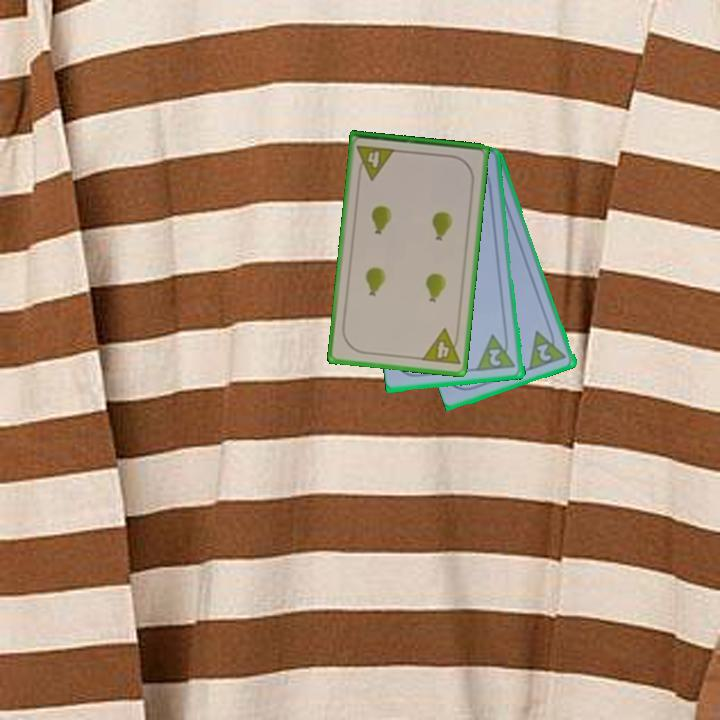2p: (526, 324, 570, 373), (485, 346, 504, 369)
4p: (418, 325, 463, 368), (353, 142, 398, 182)
